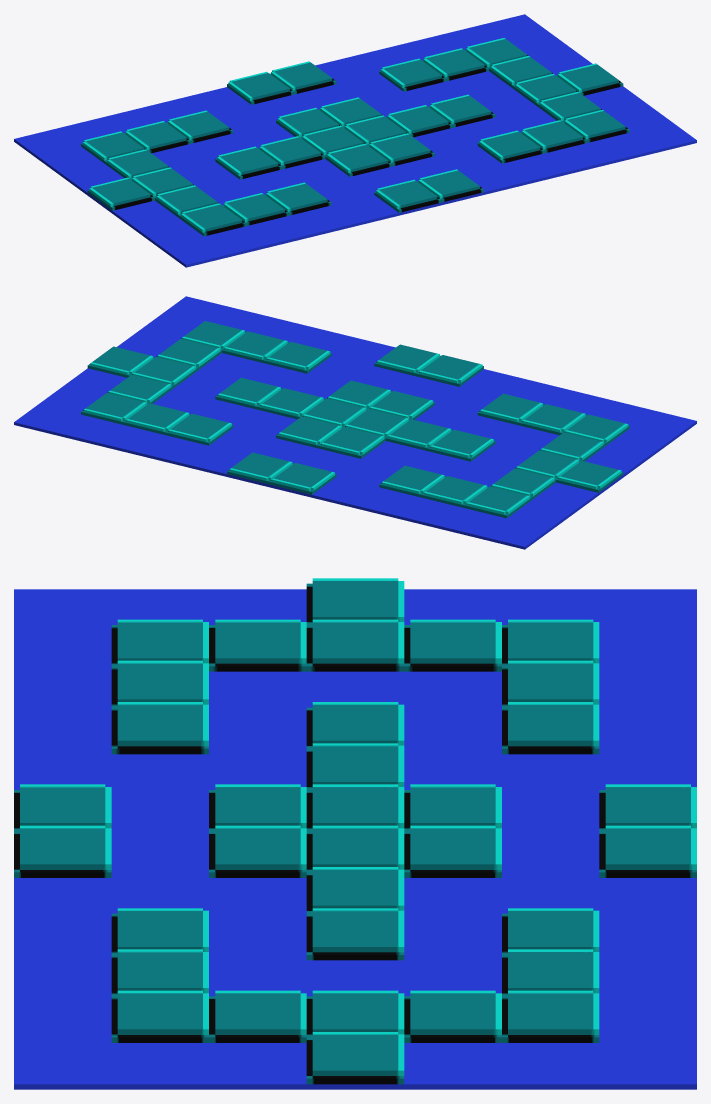
The model's file is FloorWaterInverseMailSlot.glb.
3 renders of one model, top to bottom at view 1: azimuth 30°, elevation 25°; view 2: azimuth 150°, elevation 25°; view 3: azimuth 270°, elevation 25°, orthographic. The views are drawn at different scales.
Visible parts, largest first — view 1: FloorWaterInverseMailSlot; view 2: FloorWaterInverseMailSlot; view 3: FloorWaterInverseMailSlot.
Part boxes in pixels (box(x1,y1,x2,y2)): FloorWaterInverseMailSlot: box(14, 14, 696, 267); FloorWaterInverseMailSlot: box(14, 296, 696, 549); FloorWaterInverseMailSlot: box(14, 578, 696, 1089).
Bounding box in the file's own units: 19.2 × 0.3 × 11.2.
Materials: 1 (1 with a texture image).
